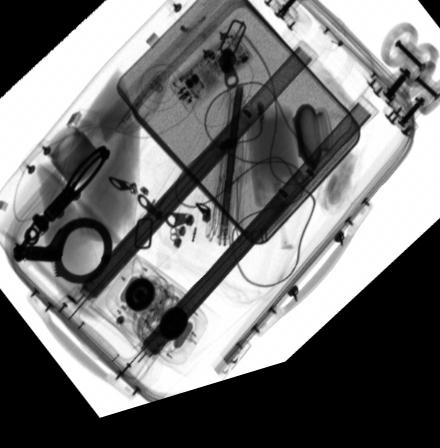HandCuffs: (12, 148, 116, 293)
